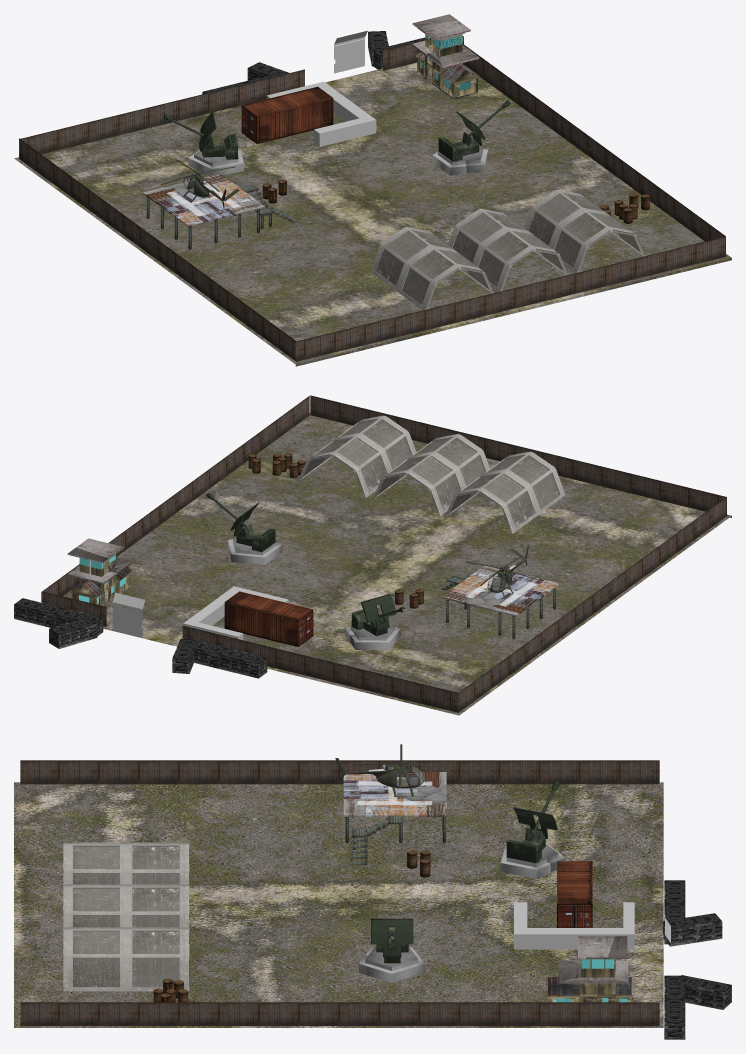
The picture shows the model from 3 angles, top to bottom: view 1: azimuth 30°, elevation 25°; view 2: azimuth 150°, elevation 25°; view 3: azimuth 270°, elevation 25°; orthographic projection. The views are drawn at different scales.
Parts seen in each view (by area): view 1: ground001, Plane099, Plane103, Plane102, Plane101, hangar_03, hangar_02, hangar_01, heliport, OldTower:OldTower, container_023, Box222 (+5 smaller); view 2: ground001, Plane099, Plane103, Plane102, hangar_03, hangar_02, Plane101, hangar_01, heliport, container_023, OldTower:OldTower, turel_1 (+11 smaller); view 3: ground001, Plane101, Plane102, hangar_02, hangar_01, hangar_03, heliport, OldTower:OldTower, turel_2, turel_1, Box222, container_023 (+8 smaller).
Boxes of the visible parts, x1,y1,x2,y2 form: ground001: (14, 62, 731, 366); Plane099: (295, 236, 725, 361); Plane103: (19, 40, 425, 159); Plane102: (19, 138, 295, 360); Plane101: (462, 44, 725, 241); hangar_03: (370, 227, 494, 310); hangar_02: (524, 189, 645, 273); hangar_01: (448, 208, 568, 292); heliport: (143, 173, 296, 249); OldTower:OldTower: (412, 14, 479, 99); container_023: (241, 86, 333, 144); Box222: (267, 81, 376, 146); ground001: (63, 413, 731, 715); Plane099: (310, 395, 726, 516); Plane103: (42, 591, 459, 712); Plane102: (457, 497, 725, 712); hangar_03: (444, 451, 565, 533); hangar_02: (298, 415, 416, 497); Plane101: (41, 396, 309, 602); hangar_01: (372, 434, 489, 516); heliport: (441, 565, 559, 639); container_023: (224, 591, 313, 646); OldTower:OldTower: (67, 538, 132, 606); turel_1: (345, 593, 405, 649); ground001: (14, 782, 663, 1027); Plane101: (20, 1002, 659, 1026); Plane102: (20, 760, 659, 784); hangar_02: (62, 927, 189, 991); hangar_01: (62, 884, 189, 947); hangar_03: (62, 842, 189, 905); heliport: (343, 772, 446, 864); OldTower:OldTower: (548, 936, 631, 1002); turel_2: (359, 918, 424, 982); turel_1: (500, 781, 565, 879); Box222: (514, 902, 634, 949); container_023: (557, 861, 592, 927).
Bounding box in the file's own units: 78.82 × 9.84 × 94.34.
